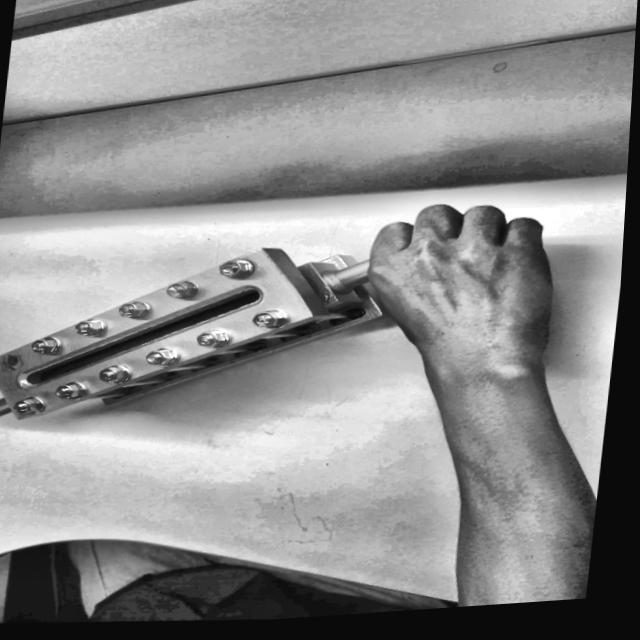ShuiWeiQi_11: (0, 208, 370, 464)
